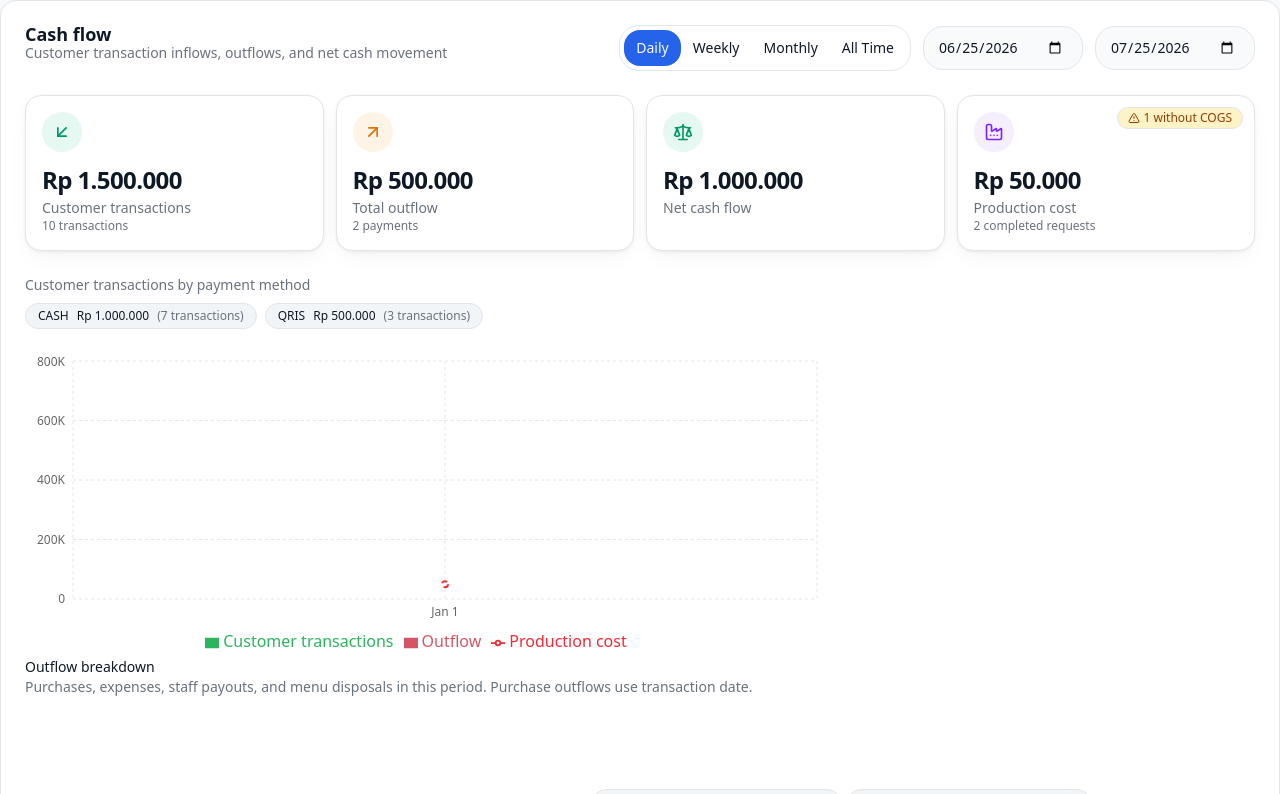
CashFlowSection › POS-190-2 cash-flow filter scope › period change updates stat cards and breakdown
expect the text "Rp 1.500.000" is shown: met, box [42,163,182,196]
expect the text "Rp 500.000" in the row of "Rp 1.500.000" is shown: met, box [352,163,473,196]
Click the button "Weekly". click: [716, 48]
box: [681,30,752,66]
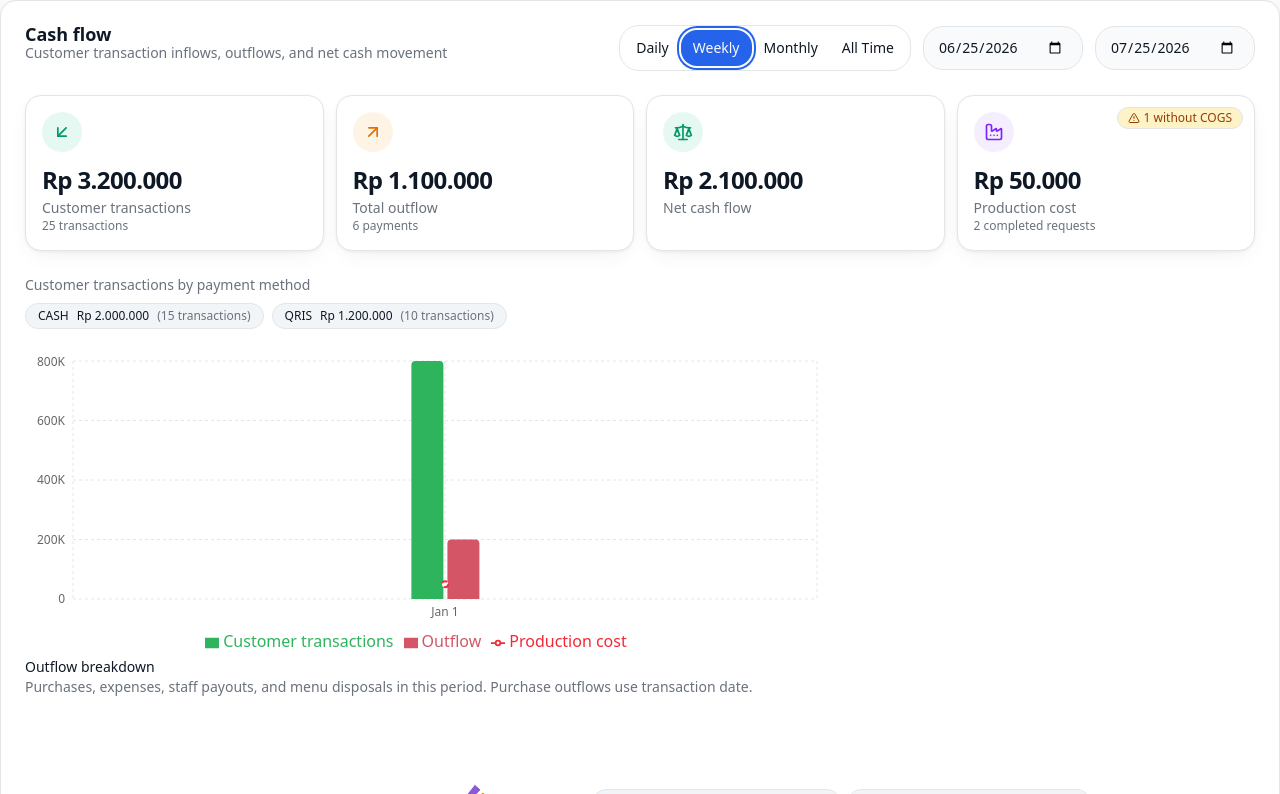
expect the text "Rp 3.200.000" is shown: met, box [42,163,182,196]
expect the text "Rp 1.100.000" is shown: met, box [352,163,492,196]
expect the text "Rp 2.100.000" is shown: met, box [663,163,803,196]
